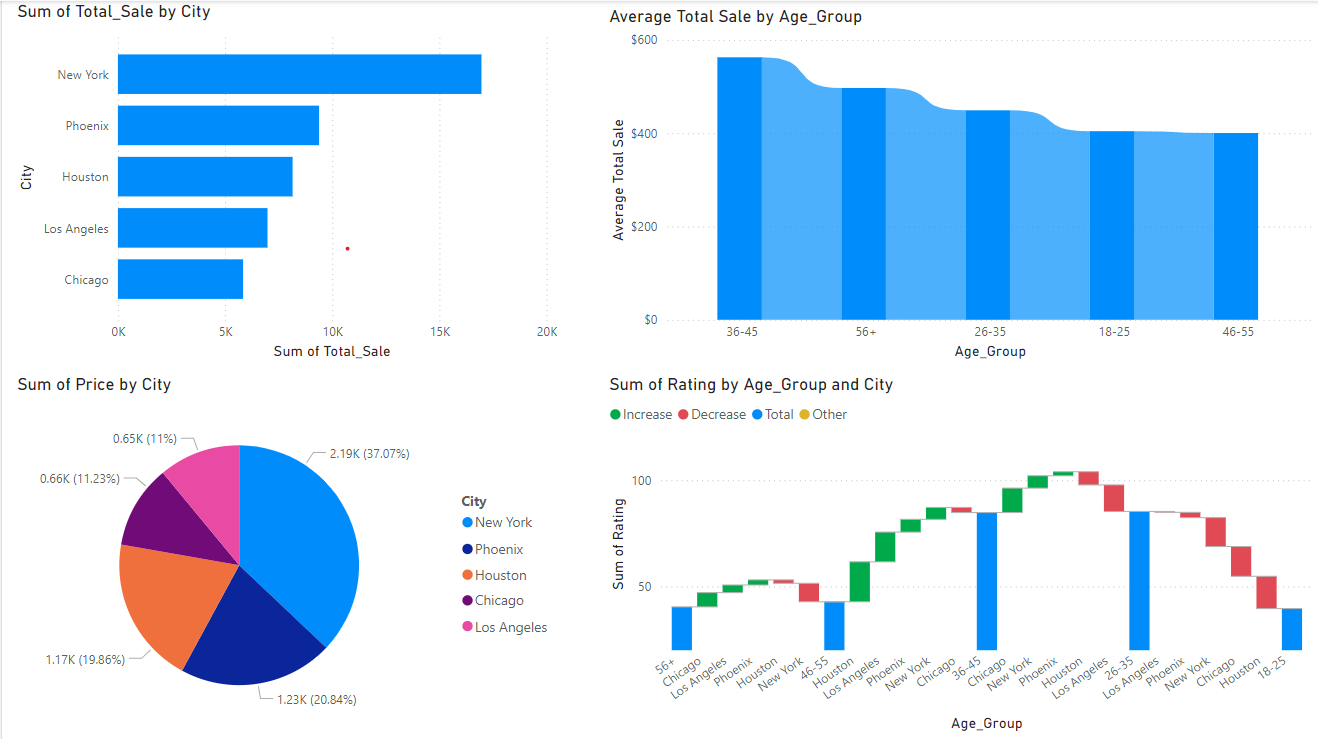

The dashboard page shown, as its layout file describes it:
{"tool":"powerbi","page":{"name":"Page 1","canvas":[1280,720],"ordinal":0},"visuals":[{"type":"barChart","fields":{"Category":["project product_details.City"],"Y":["Sum(project product_details.Total_Sale)"]},"box":[9.7,0,535,353.1],"z":0},{"type":"ribbonChart","fields":{"Category":["project product_details.Age_Group"],"Y":["project product_details.Average Total Sale"]},"box":[585.5,4.9,694.5,348.2],"z":1},{"type":"pieChart","fields":{"Category":["project product_details.City"],"Y":["Sum(project product_details.Price)"]},"box":[10,363,535,353],"z":2},{"type":"waterfallChart","fields":{"Category":["project product_details.Age_Group"],"Breakdown":["project product_details.City"],"Y":["Sum(project product_details.Rating)"]},"box":[586,363,694,353],"z":3}]}

Visuals, with their boxes in screenshot pixels (x1, y1, x2, y2), scaled from the page's 1280x720 canvas onto the 1318x739 screenshot:
barChart - project product_details.City x Sum(project product_details.Total_Sale): [10, 0, 561, 362]
ribbonChart - project product_details.Age_Group x project product_details.Average Total Sale: [603, 5, 1317, 362]
pieChart - project product_details.City x Sum(project product_details.Price): [10, 373, 561, 735]
waterfallChart - project product_details.Age_Group x project product_details.City: [603, 373, 1317, 735]
